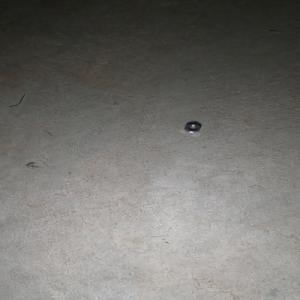Nut: (184, 122, 202, 132)
